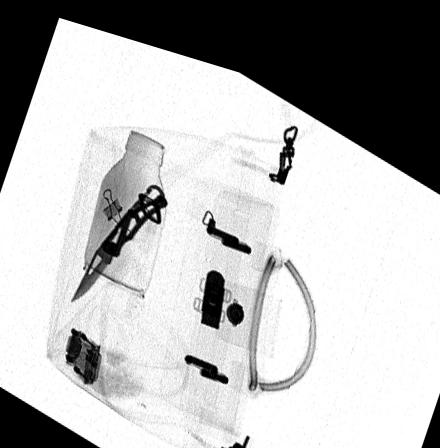Knife: (68, 172, 169, 298)
